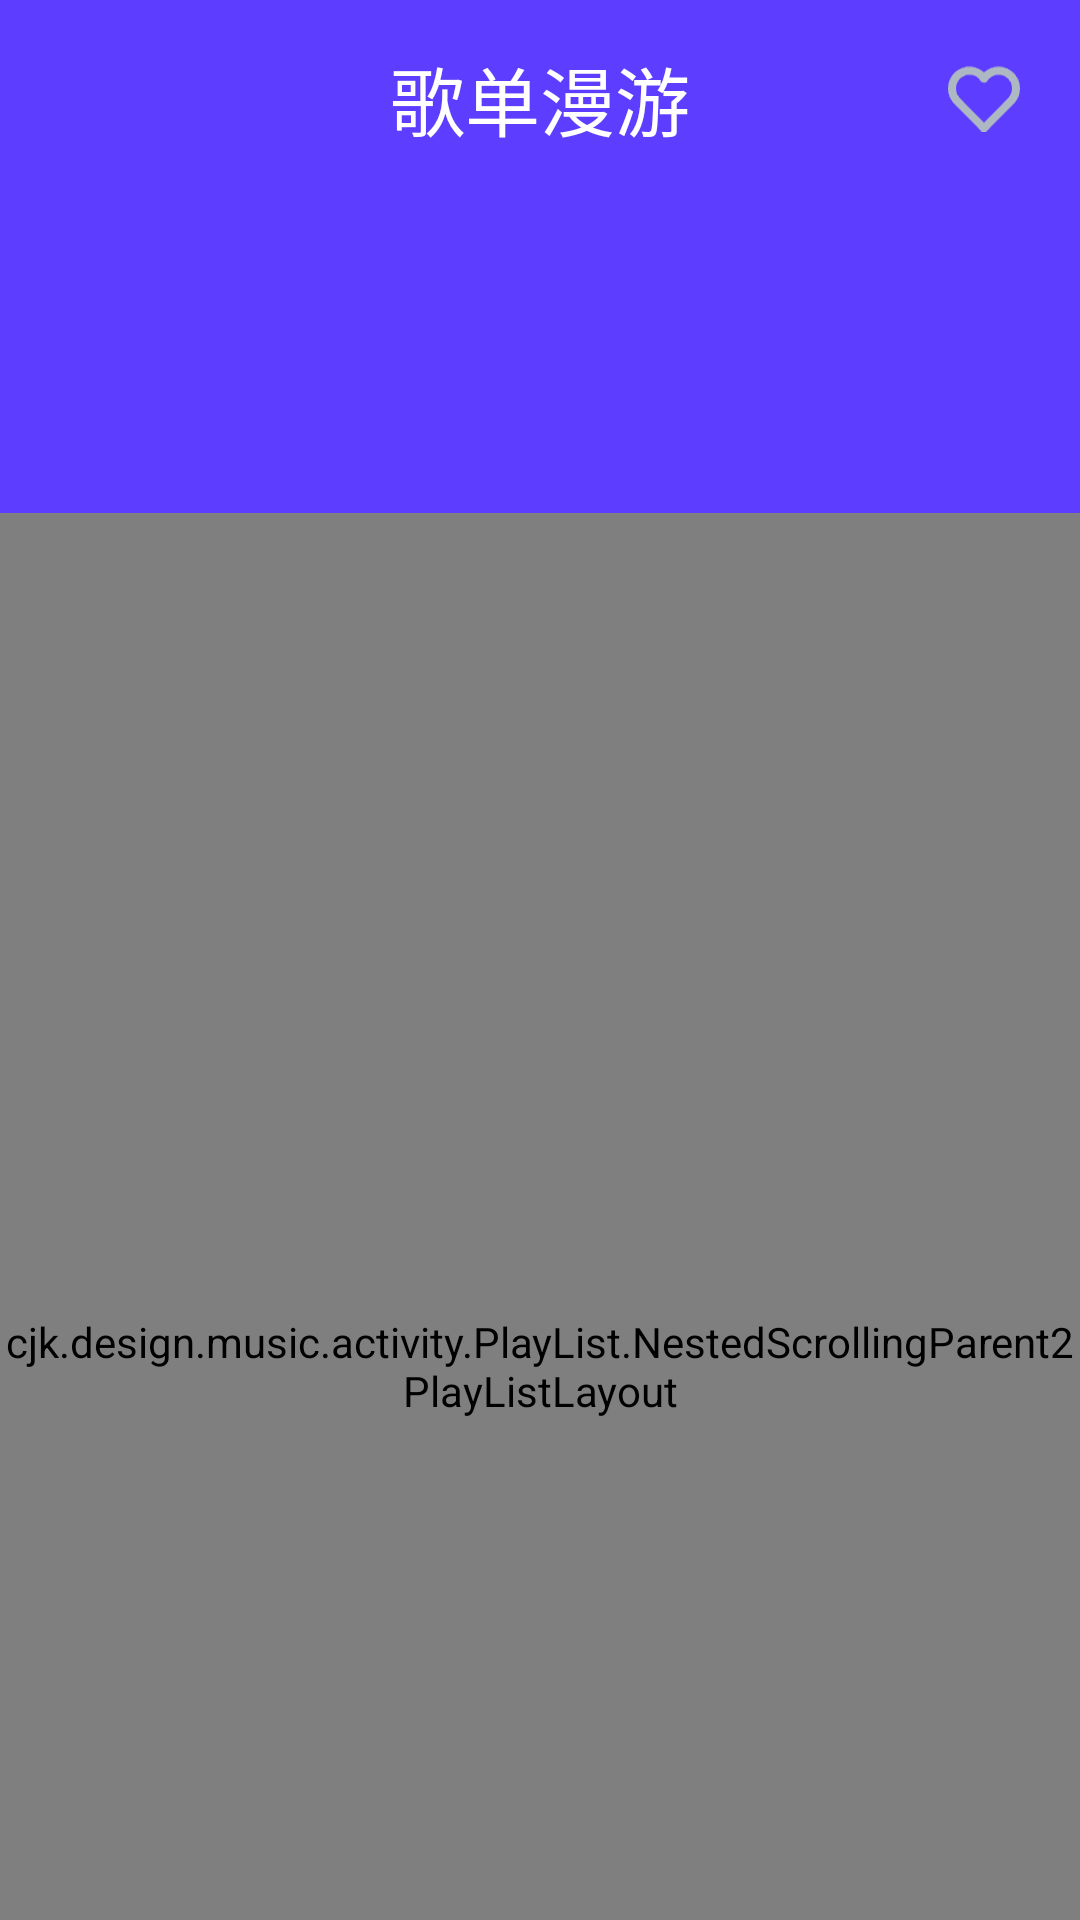

Icon click points for this 1080×1920 phone screenshot, format (x,y):
love: (984,99)
